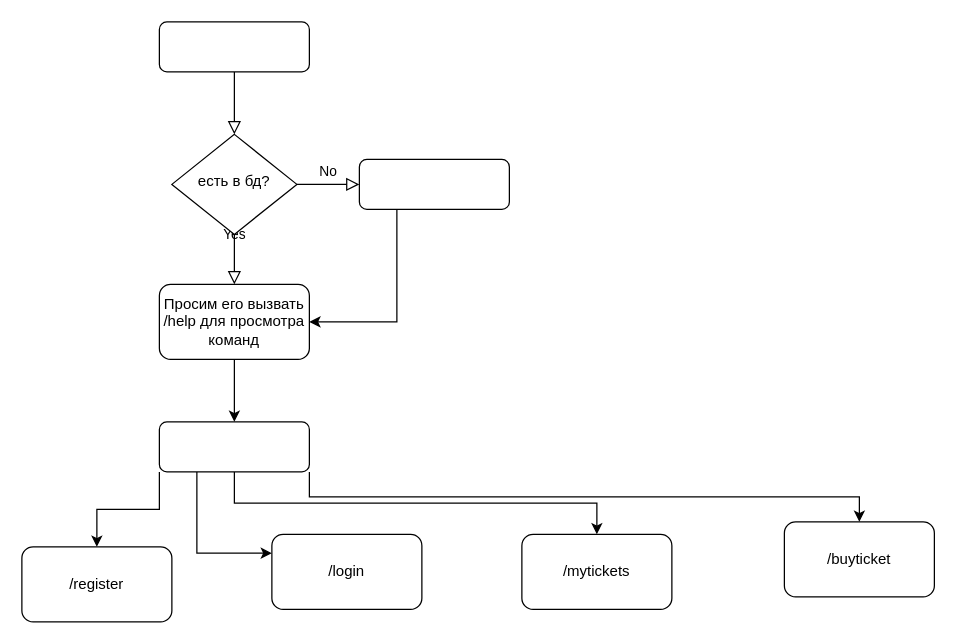
The diagram is 956 pixels wide and 644 high, and some of its shapes have lost their labels. The centre of each missing label's shape, as x and y in pixels:
"/help" belongs at pixel 233 446.
"/start" belongs at pixel 233 46.
"регестрируем его тг id в бд" belongs at pixel 433 183.
